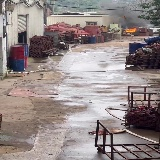fire: (125, 27, 138, 32)
